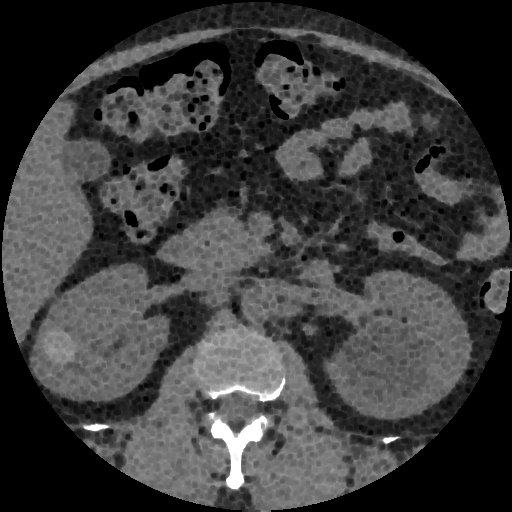Lesion: (40, 326, 80, 368)
